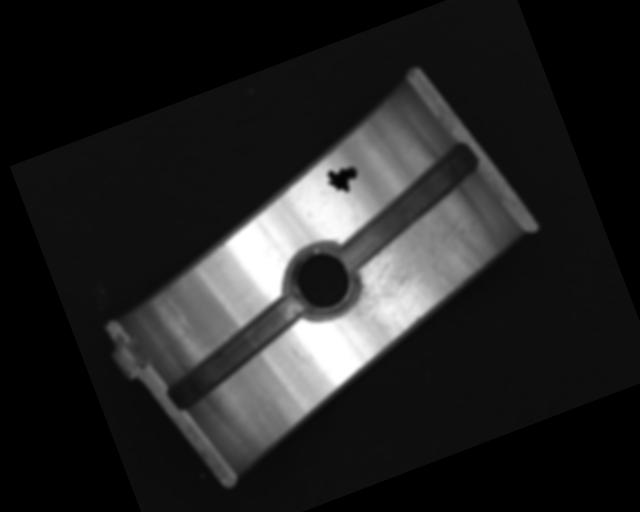blot: (321, 160, 365, 200)
gap: (321, 141, 494, 270), (151, 292, 322, 414)
hole: (274, 230, 369, 330)
nick: (160, 287, 193, 334)
scratch: (315, 190, 516, 366)
